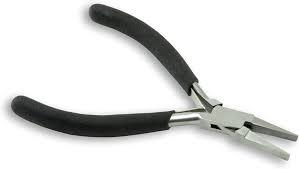pliers: (10, 2, 297, 161)
